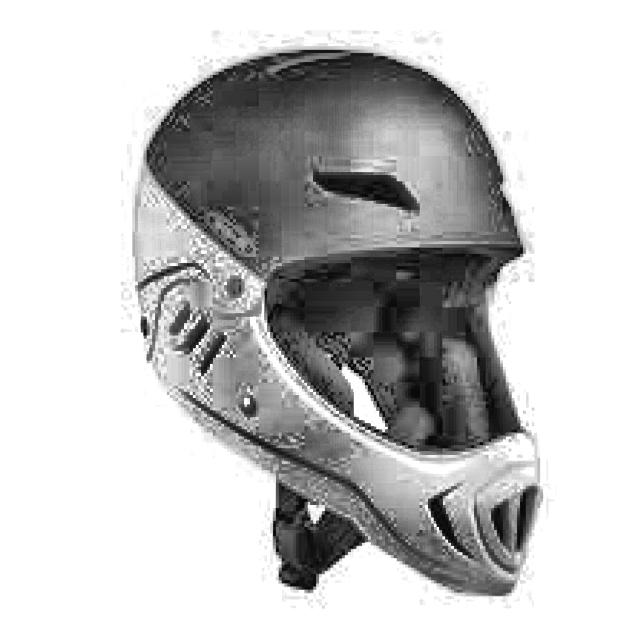Helmet: (124, 33, 544, 609)
